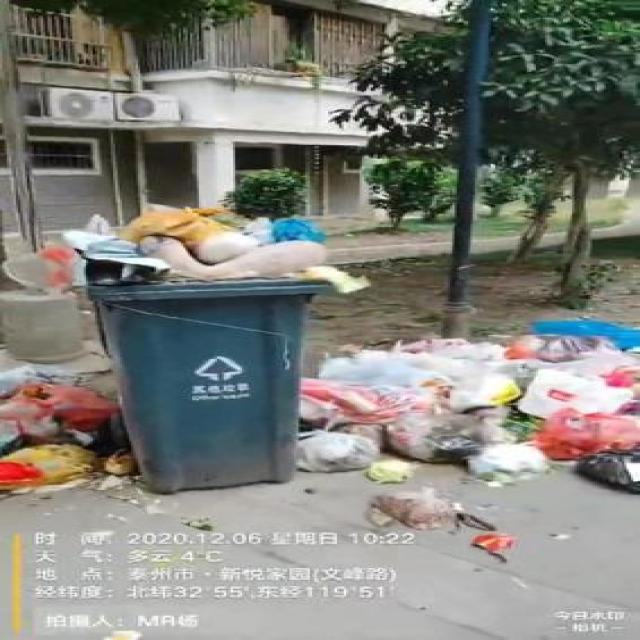garbage: (301, 319, 638, 557), (0, 361, 133, 497)
overflow: (45, 202, 358, 492)
